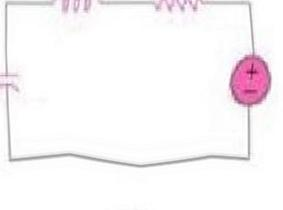Battery: (220, 42, 281, 113)
